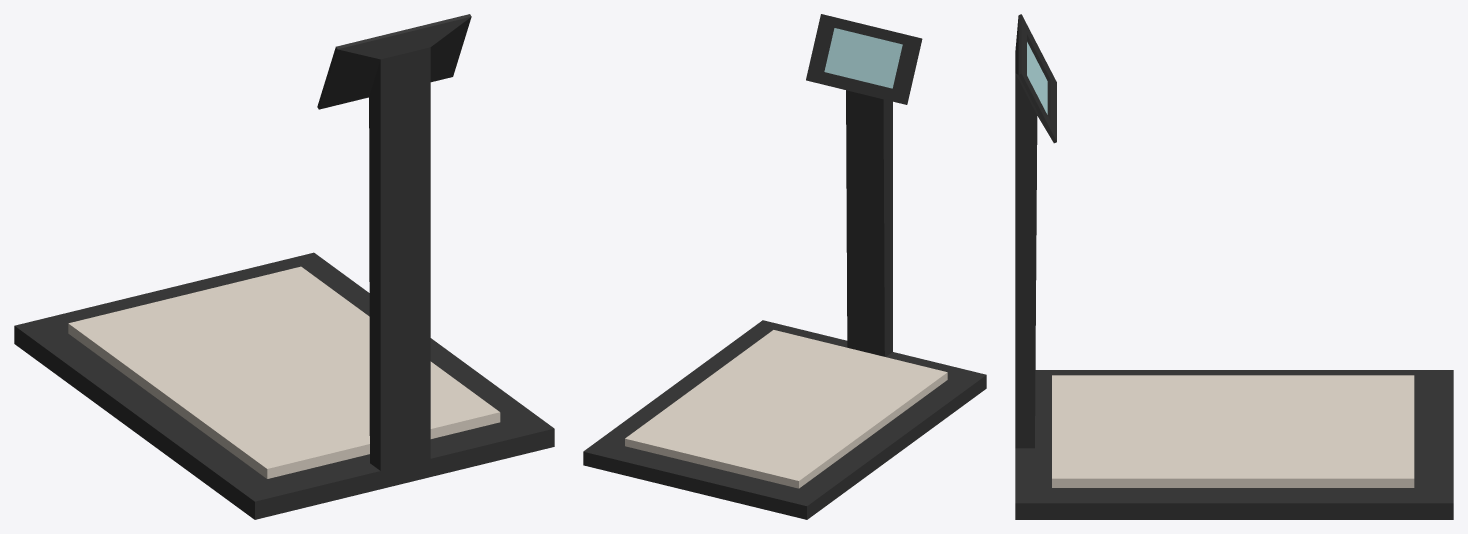
The model's file is Bascula.fbx.
The picture shows the model from 3 angles, left to right: view 1: azimuth 30°, elevation 25°; view 2: azimuth 150°, elevation 25°; view 3: azimuth 270°, elevation 25°; orthographic projection. The views are drawn at different scales.
Parts seen in each view (by area): view 1: Cube; view 2: Cube; view 3: Cube.
Boxes of the visible parts, <box> form: Cube: <box>14,14,554,519</box>; Cube: <box>583,14,986,519</box>; Cube: <box>1015,14,1453,519</box>.
Size of the model in its own units: 628 by 902 by 873.
